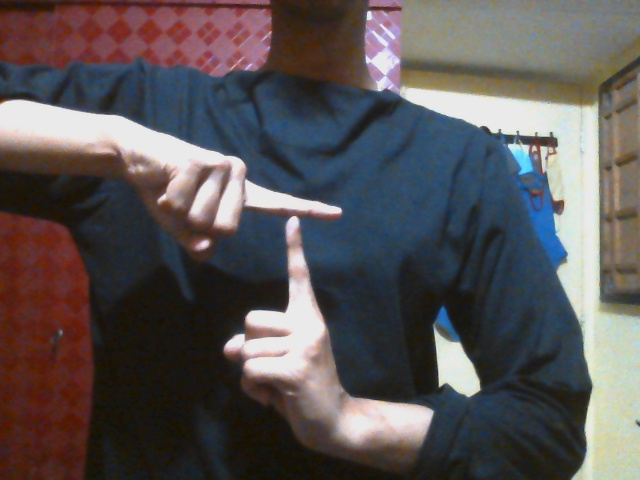T: (159, 157, 371, 411)
